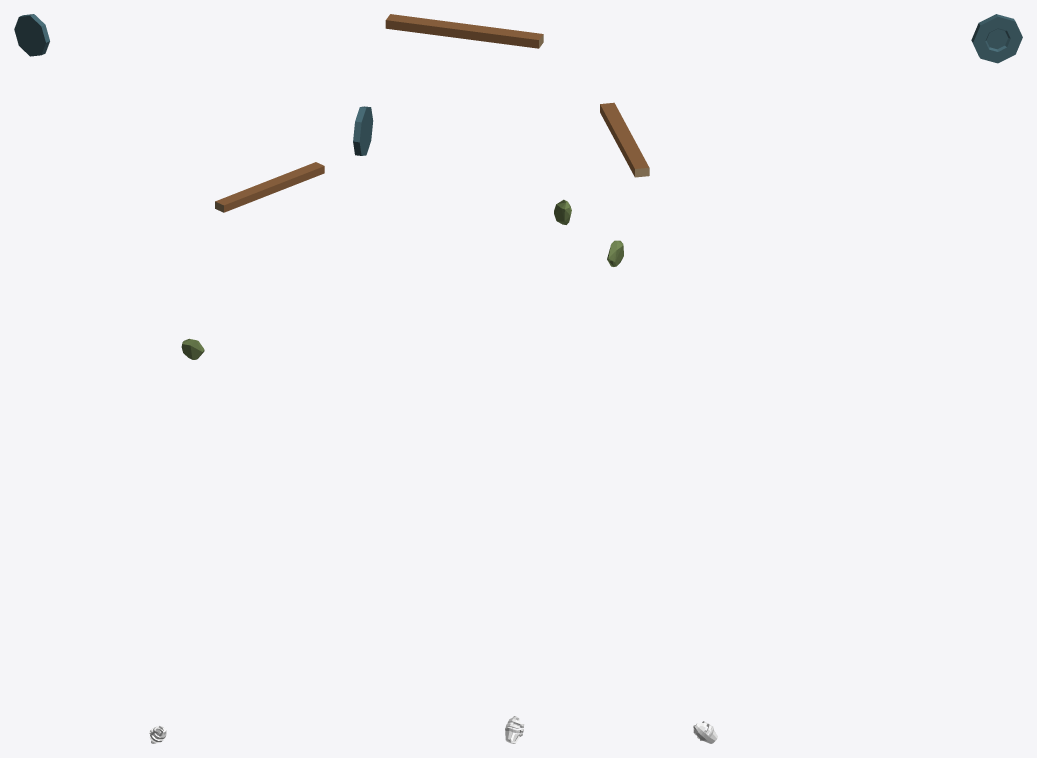
The picture shows the model from 3 angles, left to right: view 1: azimuth 30°, elevation 25°; view 2: azimuth 150°, elevation 25°; view 3: azimuth 270°, elevation 25°; orthographic projection. The views are drawn at different scales.
Parts seen in each view (by area): view 1: Box587_brown_0, Cylinder1495_metal_0; view 2: Box587_brown_0, Cylinder1495_metal_0, Sphere291_white_0; view 3: Cylinder1495_metal_0, Box587_brown_0.
Part boxes in pixels (x1,y1,x2,y2): Box587_brown_0: (215, 162, 324, 212); Cylinder1495_metal_0: (14, 14, 49, 56); Box587_brown_0: (385, 14, 543, 48); Cylinder1495_metal_0: (353, 106, 373, 155); Sphere291_white_0: (505, 716, 524, 743); Cylinder1495_metal_0: (971, 14, 1022, 63); Box587_brown_0: (600, 102, 649, 176).
Bounding box in the file's own units: 530 × 2162 × 1136.
